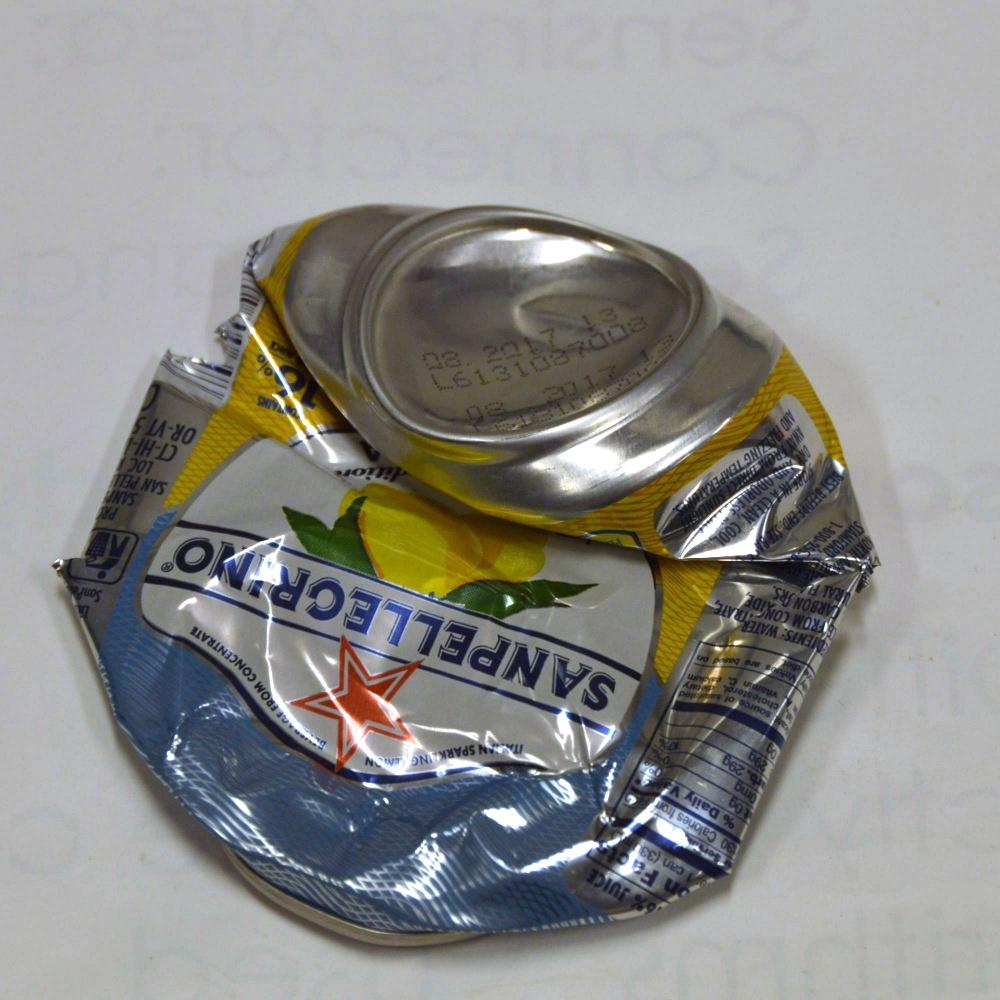Metal: (80, 178, 890, 937)
